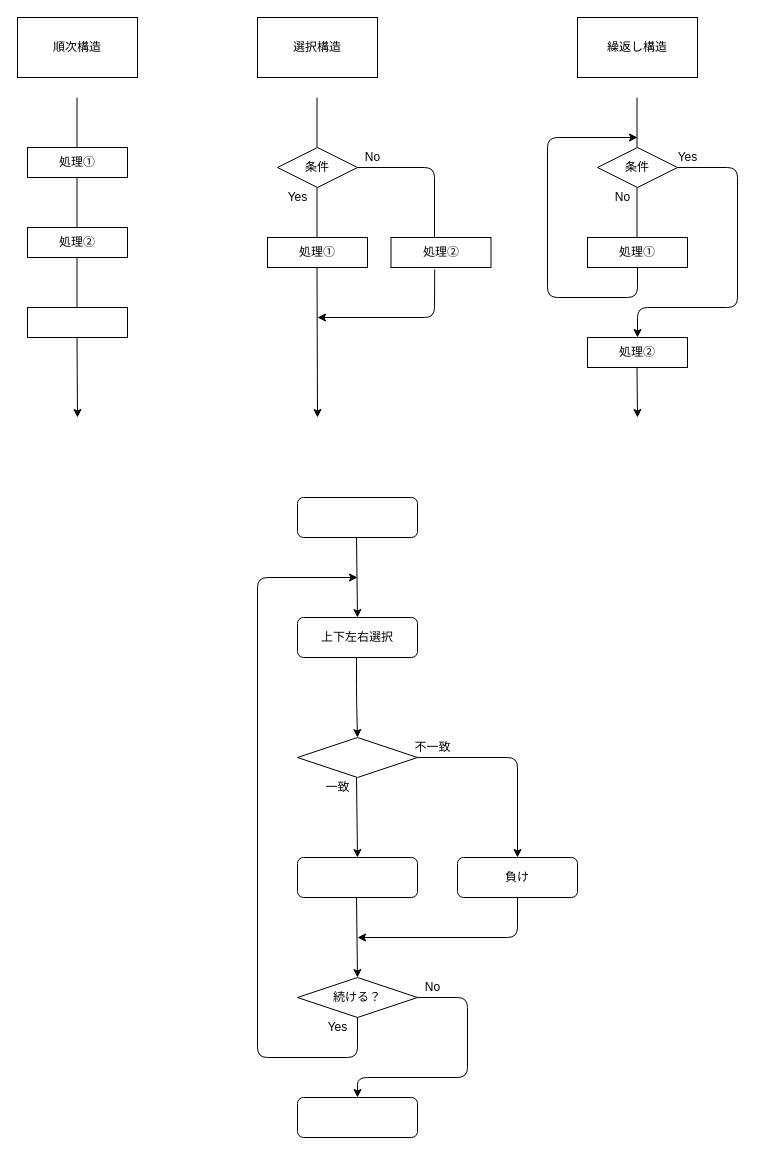
This 763x1155 diagram has some shape labels left out. The shapes that lost their labels are listed below. From the top down, each one's centre as x and y in pixels, then its label:
At [77,322]: "処理③".
At [357,517]: "ゲーム開始".
At [357,757]: "結果".
At [357,877]: "勝ち".
At [357,1117]: "ゲーム終了".
